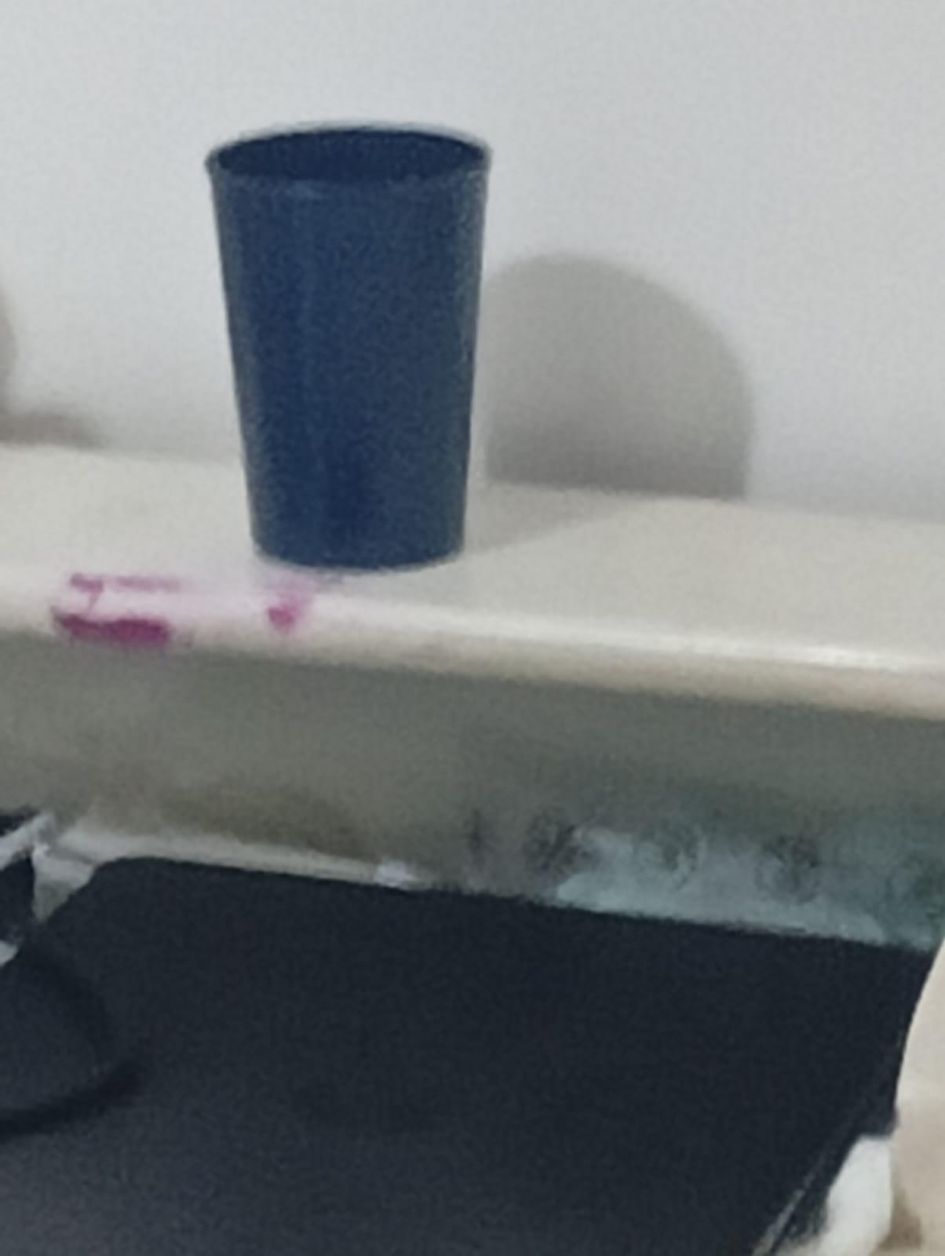cup: (206, 125, 491, 570)
